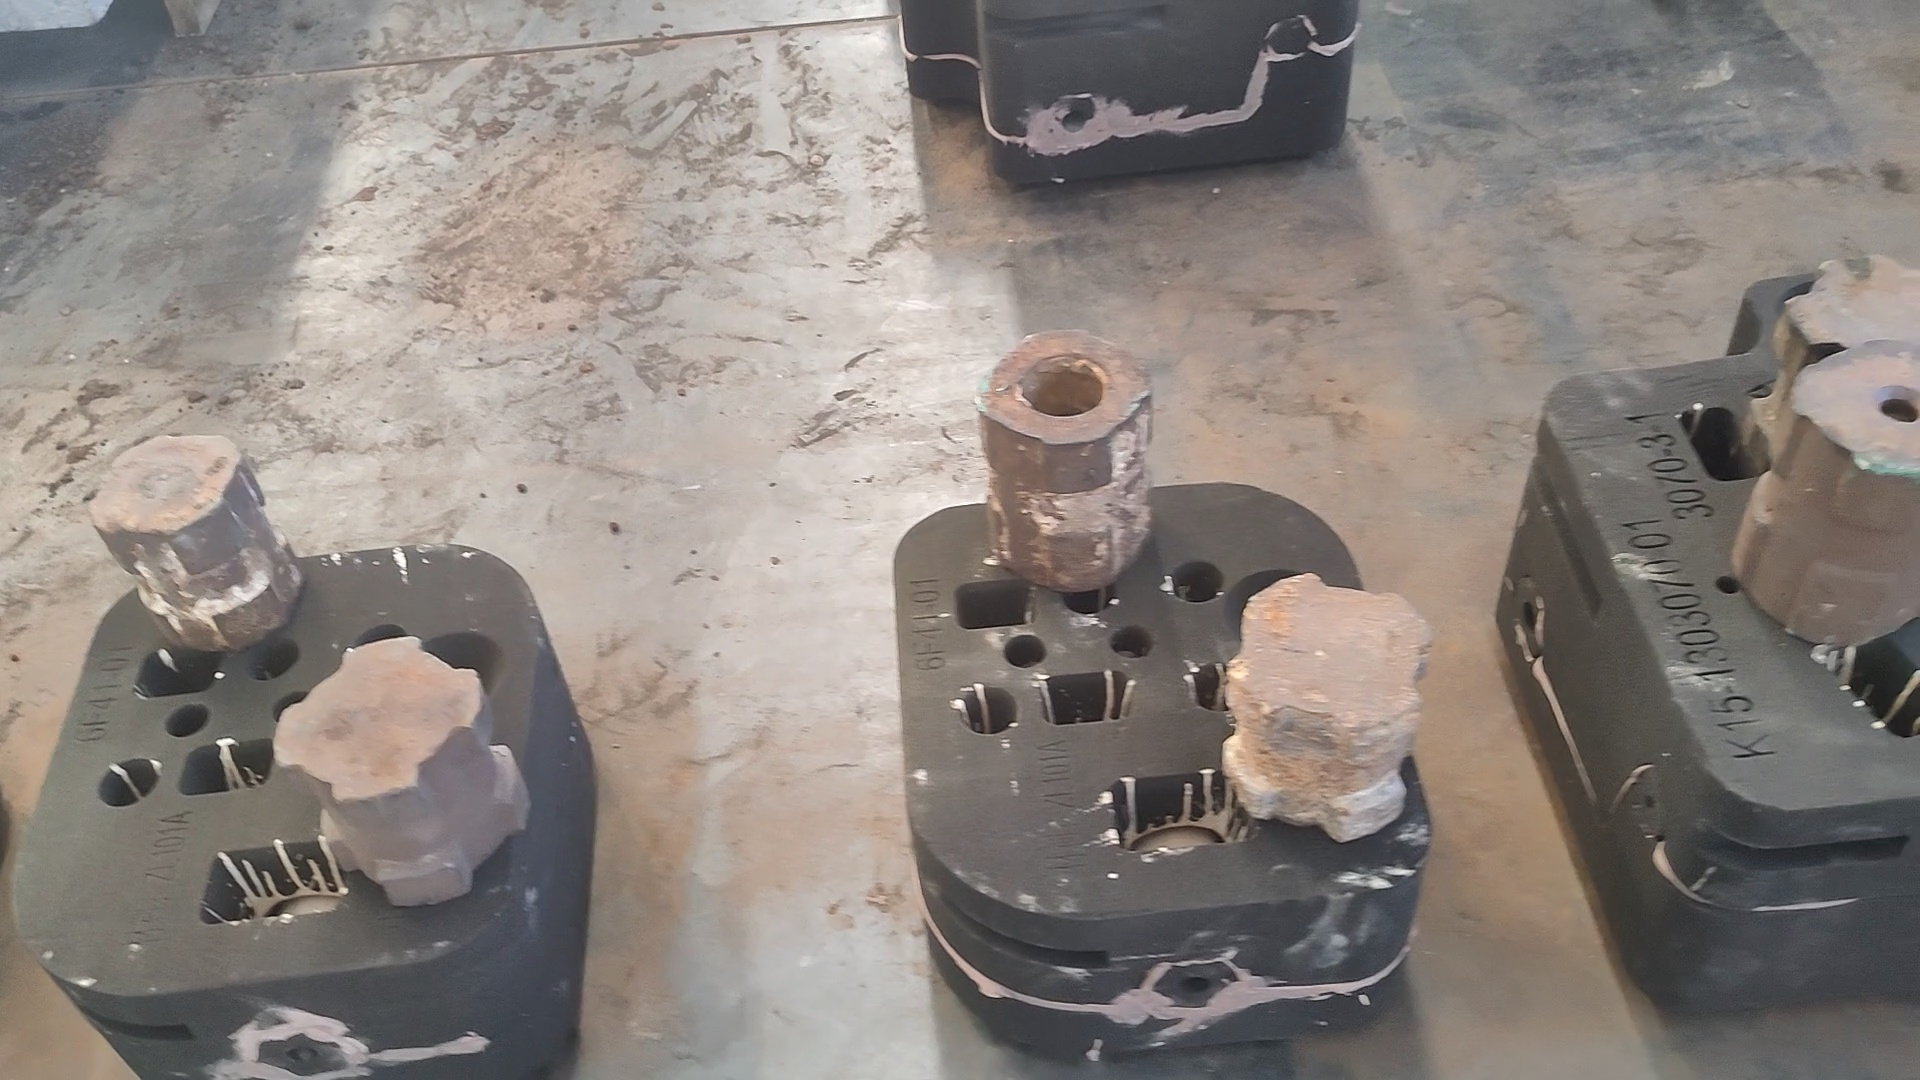pouring hole: (1221, 566, 1319, 647), (414, 630, 506, 705), (1774, 278, 1874, 345)
